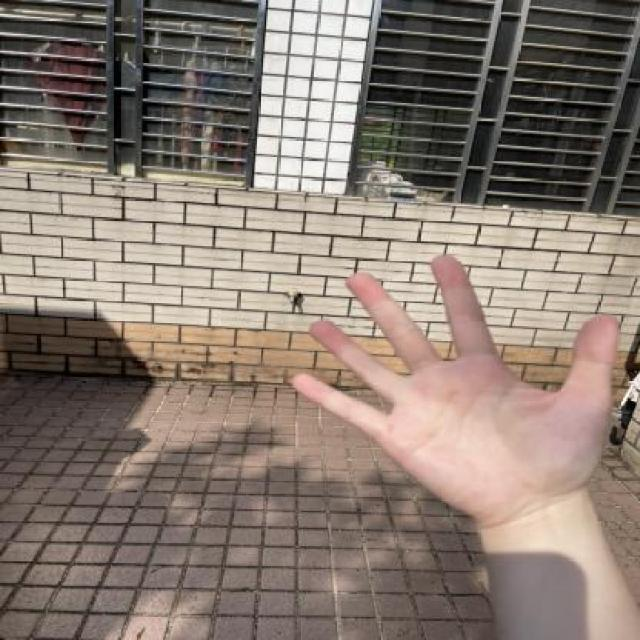hand: (263, 239, 634, 539)
